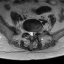CCS_normal: (31, 29, 32, 37)
LFS_stenosis: (35, 30, 37, 34)
LLS_normal: (32, 30, 35, 36)
RFS_normal: (26, 29, 29, 34)
RLS_normal: (29, 29, 31, 36)
